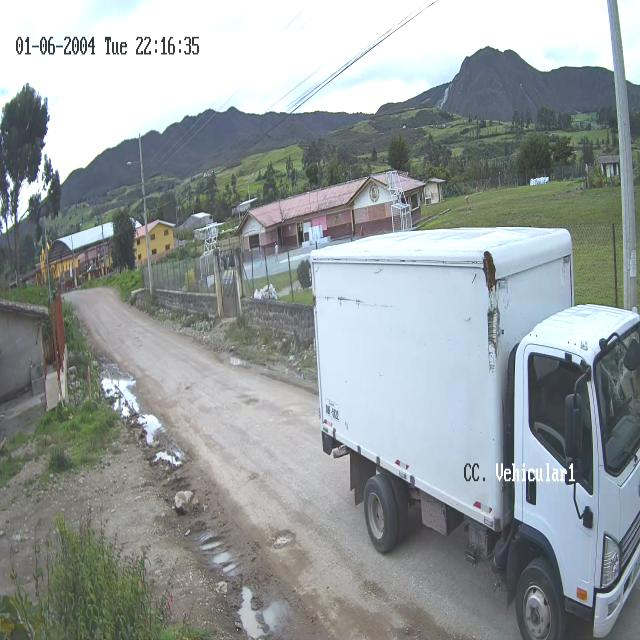TRUCK: (308, 228, 640, 640)
